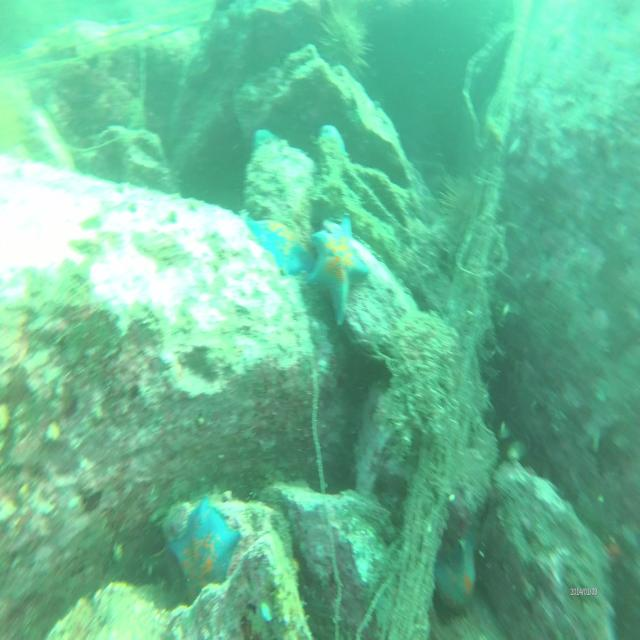echinus: (313, 2, 375, 85), (438, 168, 480, 238)
starfish: (164, 499, 239, 604), (307, 214, 367, 329), (239, 204, 316, 280), (432, 521, 480, 618)
